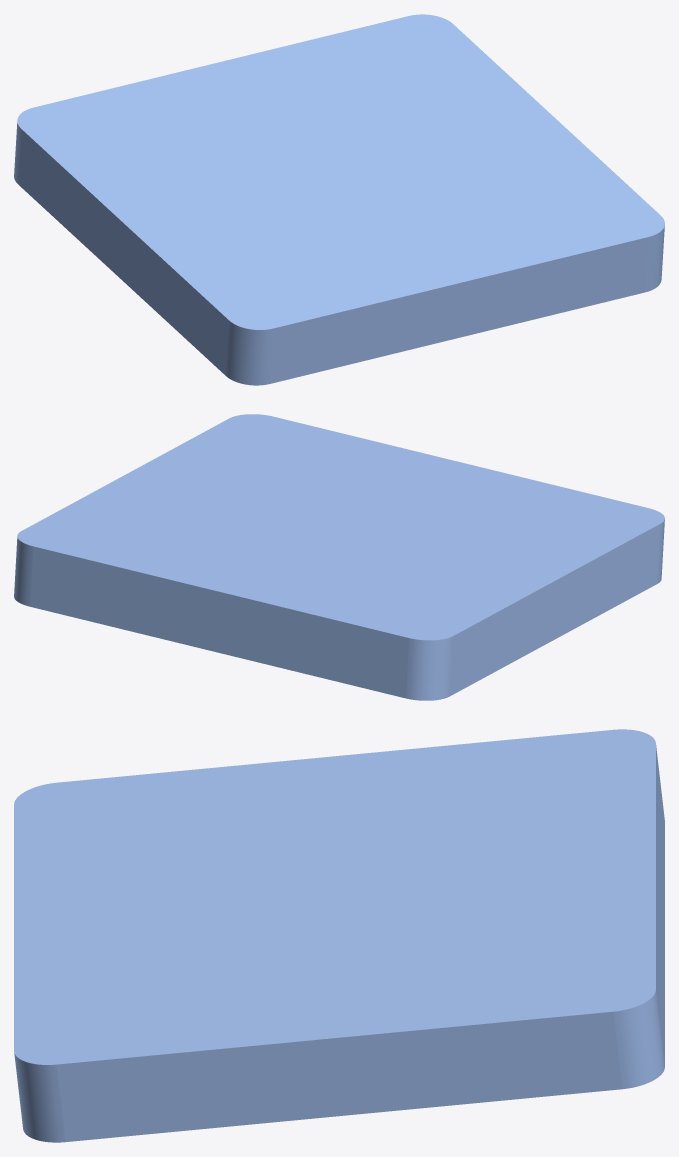
File: original-17.obj
3 views of the same model, one above another, from view 1: azimuth 30°, elevation 25°; view 2: azimuth 150°, elevation 25°; view 3: azimuth 270°, elevation 25° (orthographic). The views are drawn at different scales.
Visible parts, largest first — view 1: Group18/mesh46/mesh46-geometry#mesh46-geometry; view 2: Group18/mesh46/mesh46-geometry#mesh46-geometry; view 3: Group18/mesh46/mesh46-geometry#mesh46-geometry.
Part boxes in pixels (box(x1,y1,x2,y2)): Group18/mesh46/mesh46-geometry#mesh46-geometry: box(14, 14, 664, 385); Group18/mesh46/mesh46-geometry#mesh46-geometry: box(14, 414, 664, 700); Group18/mesh46/mesh46-geometry#mesh46-geometry: box(14, 729, 664, 1142).
Size of the model in its own units: 0.0689 by 0.0158 by 0.0673.
